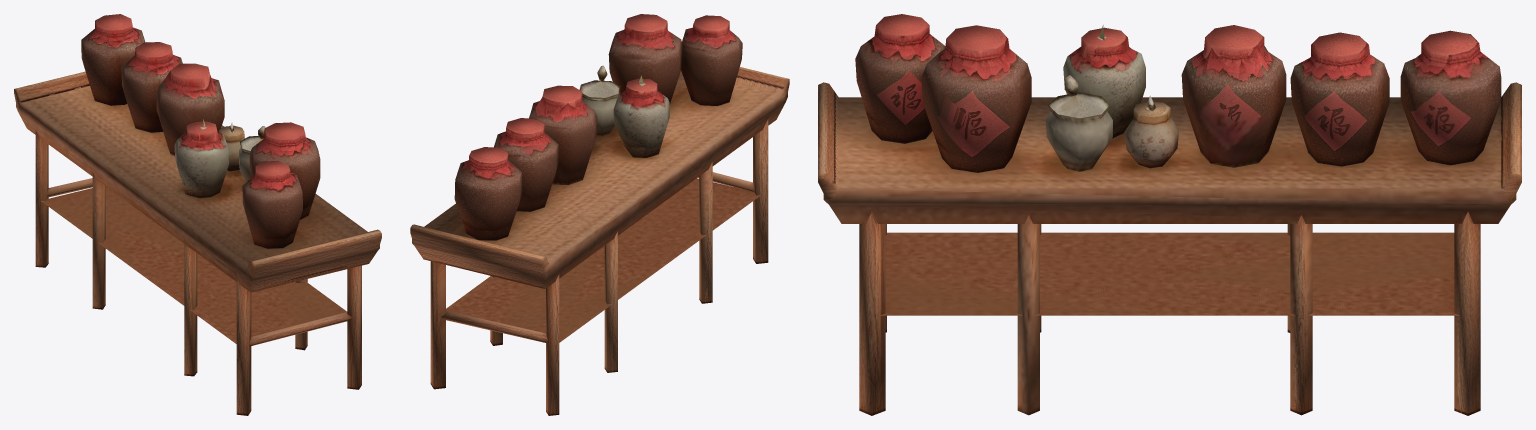
3 views of the same model, side by side, from view 1: azimuth 30°, elevation 25°; view 2: azimuth 150°, elevation 25°; view 3: azimuth 270°, elevation 25° (orthographic). The views are drawn at different scales.
Visible parts, largest first — view 1: tripo_node_2ddf5bf1; view 2: tripo_node_2ddf5bf1; view 3: tripo_node_2ddf5bf1.
Part boxes in pixels (box(x1,y1,x2,y2)): tripo_node_2ddf5bf1: box(14, 14, 381, 415); tripo_node_2ddf5bf1: box(410, 14, 789, 415); tripo_node_2ddf5bf1: box(818, 14, 1521, 415).
Size of the model in its own units: 30.66 by 99.8 by 54.49.
1 material, 1 textured.
